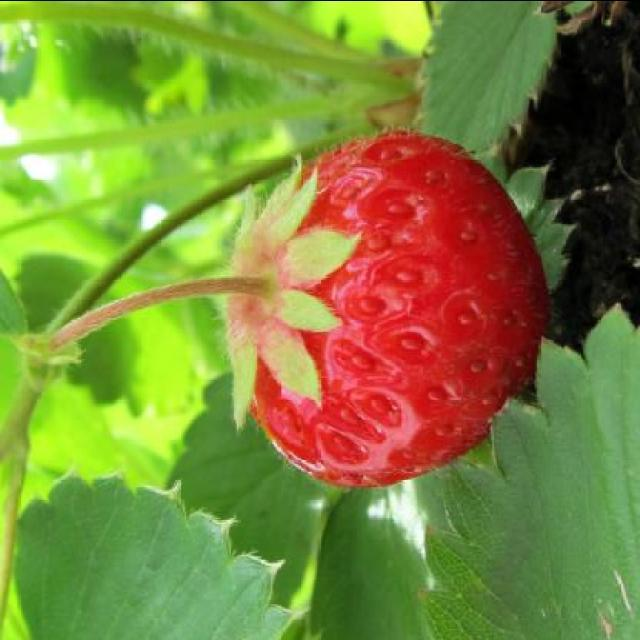Strawberry: (200, 137, 544, 466)
